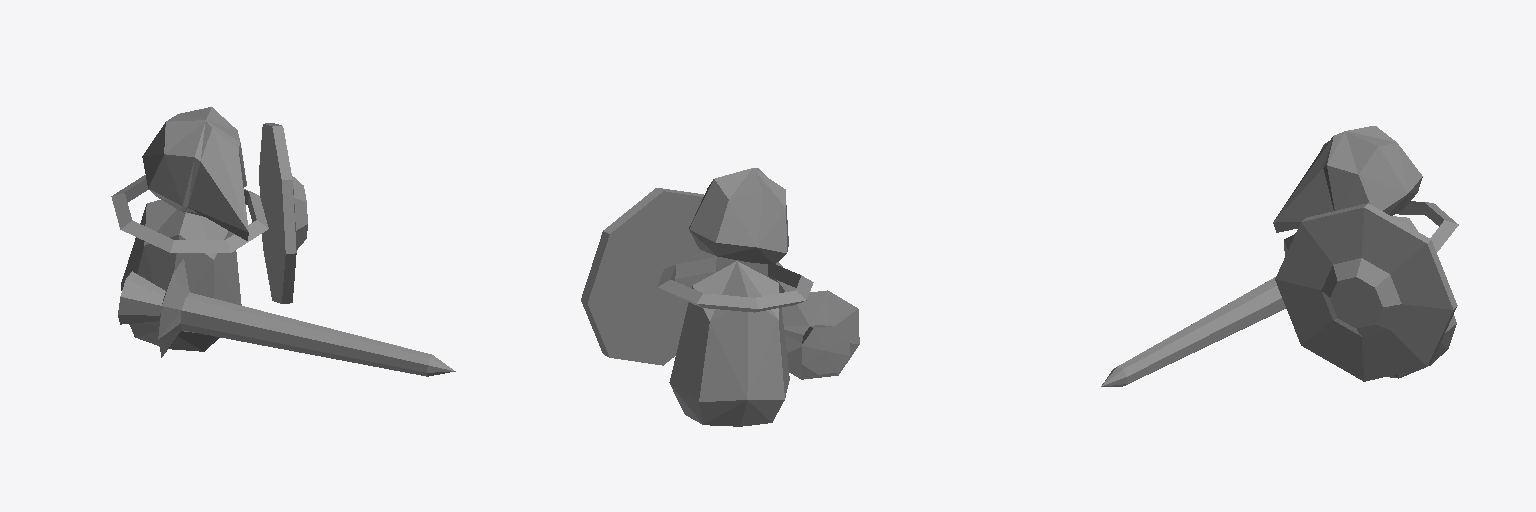
3 renders of one model, left to right at view 1: azimuth 30°, elevation 25°; view 2: azimuth 150°, elevation 25°; view 3: azimuth 270°, elevation 25°, orthographic.
Visible parts, largest first — view 1: meshMinion; view 2: meshMinion; view 3: meshMinion.
Part boxes in pixels (bbox=[...]): meshMinion: bbox=[111, 107, 455, 376]; meshMinion: bbox=[581, 168, 859, 426]; meshMinion: bbox=[1101, 126, 1458, 386].
Size of the model in its own units: 99.95 by 101 by 141.